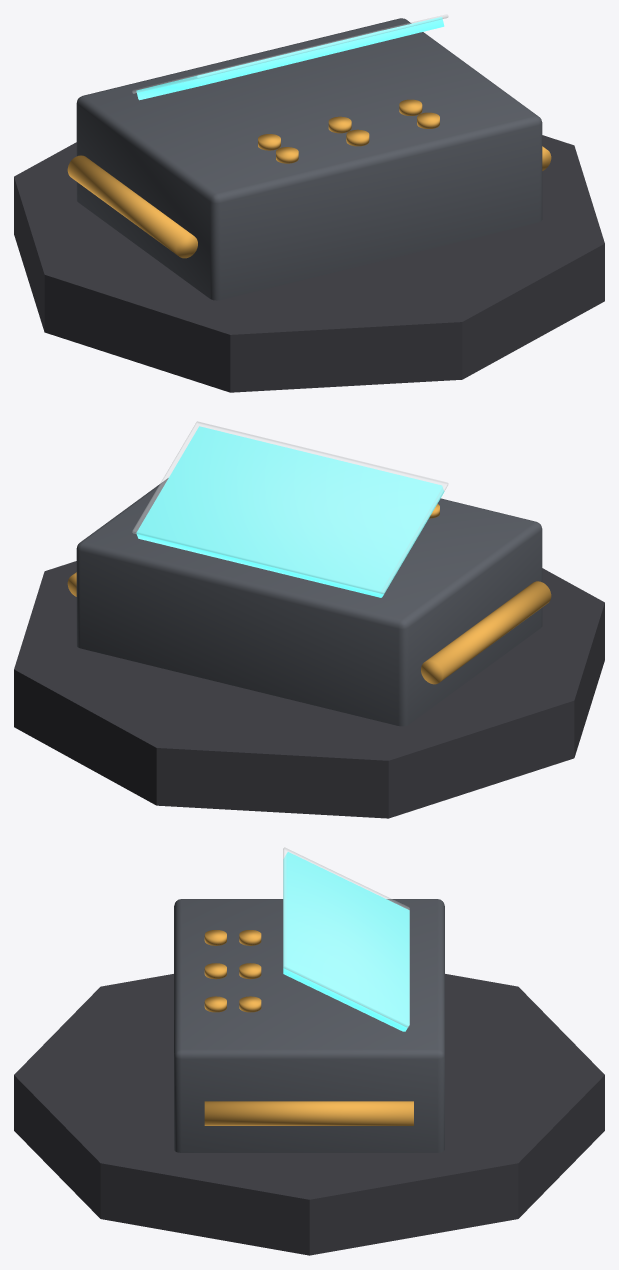
File: multi_material_lab.glb
3 views of the same model, one above another, from view 1: azimuth 30°, elevation 25°; view 2: azimuth 150°, elevation 25°; view 3: azimuth 270°, elevation 25° (orthographic). The views are drawn at different scales.
Visible parts, largest first — view 1: Cyber_Terminal_Master, Pedestal; view 2: Cyber_Terminal_Master, Pedestal; view 3: Pedestal, Cyber_Terminal_Master.
Boxes of the visible parts, x1,y1,x2,y2 form: Cyber_Terminal_Master: (67,14,551,300); Pedestal: (14,135,604,392); Cyber_Terminal_Master: (67,421,551,726); Pedestal: (14,561,604,818); Pedestal: (14,974,604,1255); Cyber_Terminal_Master: (174,847,444,1152).
Size of what is drawn, in the model's own units: 2.4 by 1.01 by 2.4.
